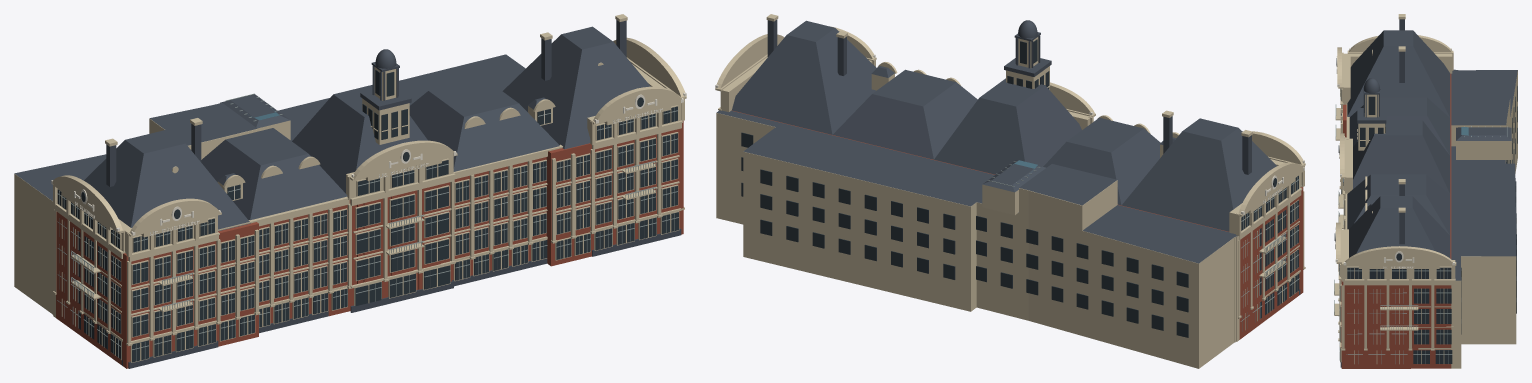
File: de-bijenkorf.glb
3 renders of one model, left to right at view 1: azimuth 30°, elevation 25°; view 2: azimuth 150°, elevation 25°; view 3: azimuth 270°, elevation 25°, orthographic. The views are drawn at different scales.
Visible parts, largest first — view 1: de-bijenkorf; view 2: de-bijenkorf; view 3: de-bijenkorf.
Part boxes in pixels (box(x1,y1,x2,y2)): de-bijenkorf: box(14, 14, 686, 368); de-bijenkorf: box(715, 14, 1305, 368); de-bijenkorf: box(1334, 14, 1517, 368).
Bounding box in the file's own units: 114 × 45.43 × 40.95.
